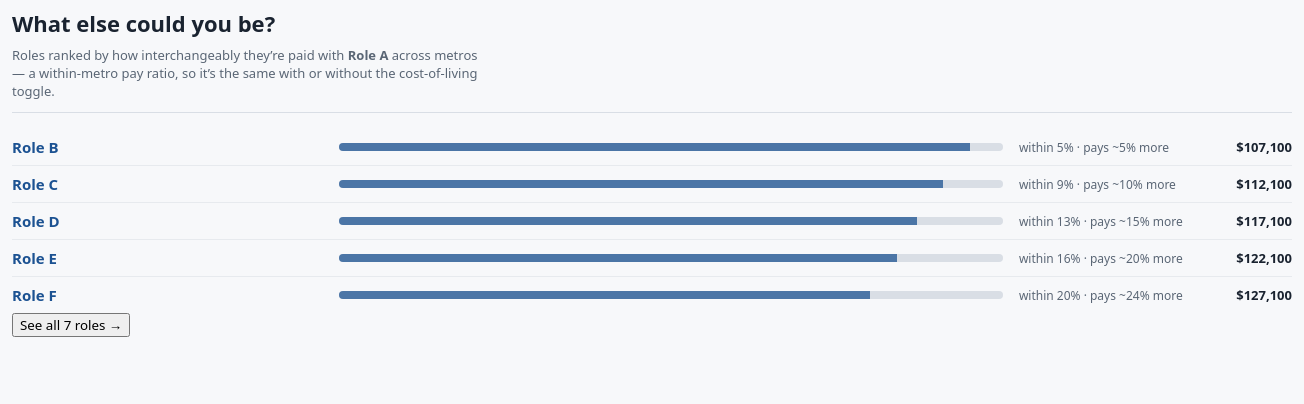
Test: RoleSimilarity narrow cap › narrow shows five, states the TRUE total, and expands in place
Expected: the number of list items with class "rsim-row" is 5, [12,137,1292,157]; [12,165,1292,202]; [12,202,1292,239]; [12,239,1292,276]; [12,276,1292,313]
Expected: the text "5" is not shown
Click the button "See all 7 roles →" at (71, 325), box [12,313,130,337]
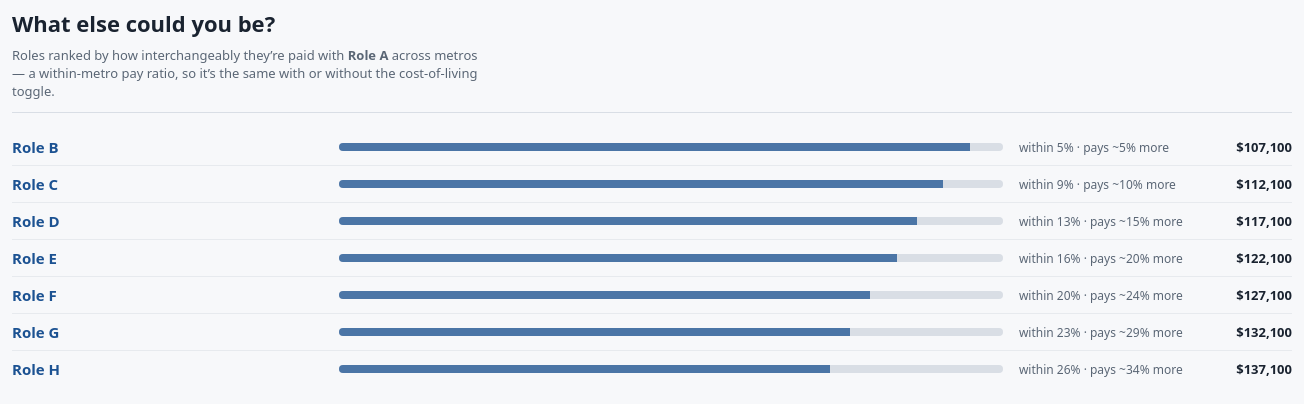
Now the number of list items with class "rsim-row" is 7
Now the button "See all" is gone
